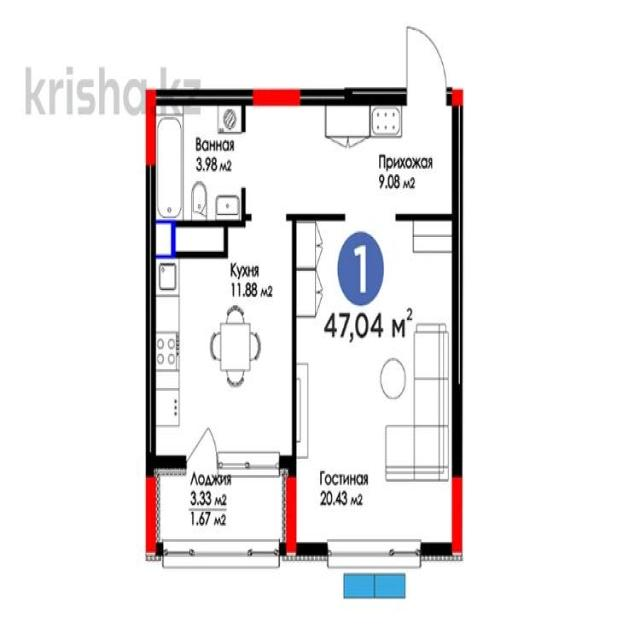balcony: (150, 464, 286, 559)
bathroom: (148, 94, 244, 219)
hallway: (246, 96, 458, 214)
kitchen: (151, 219, 291, 465)
living_room: (296, 219, 456, 552)
